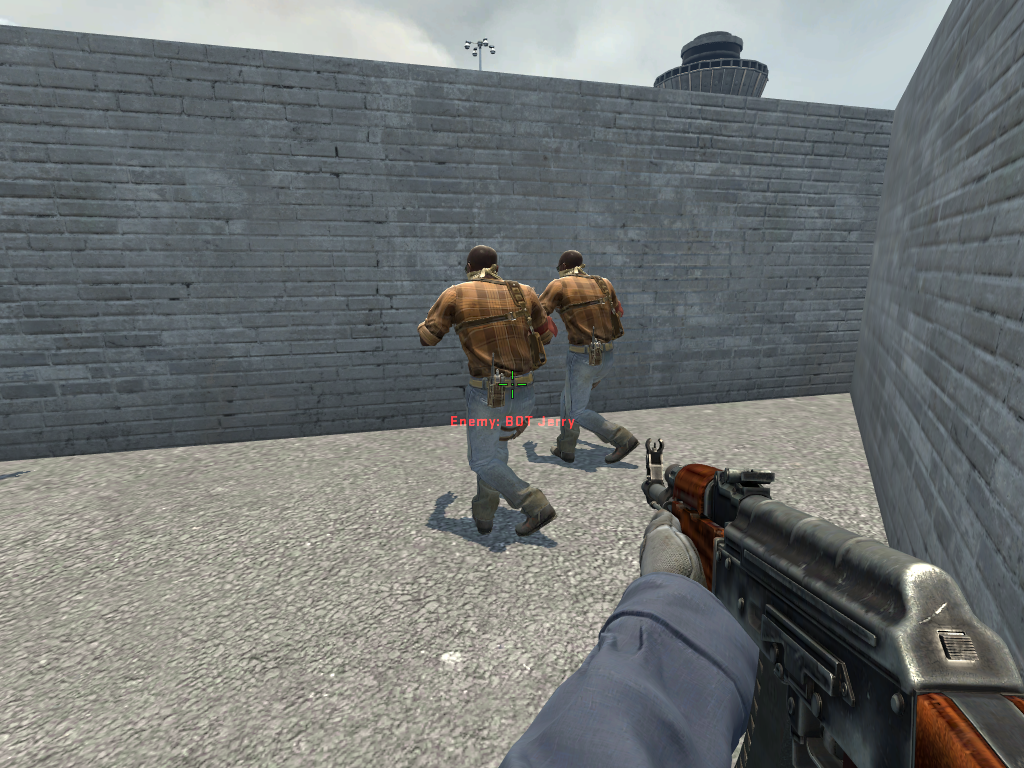tr head: (459, 241, 505, 291), (553, 247, 586, 285)
